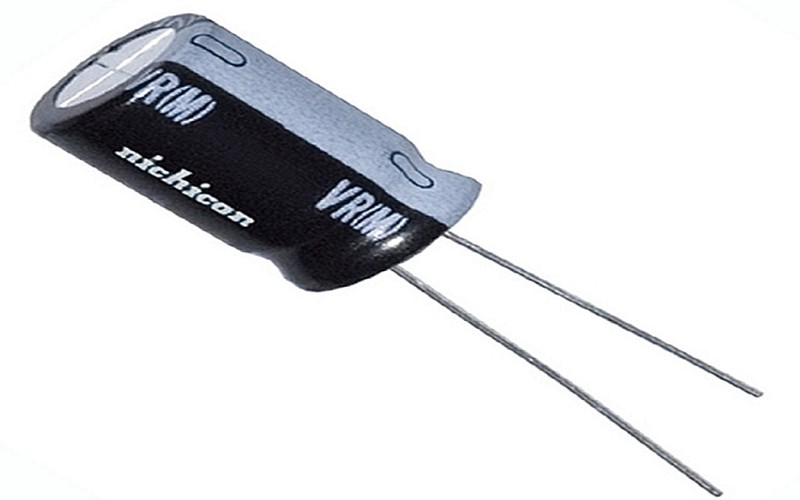Capacitor: (14, 11, 800, 500)
